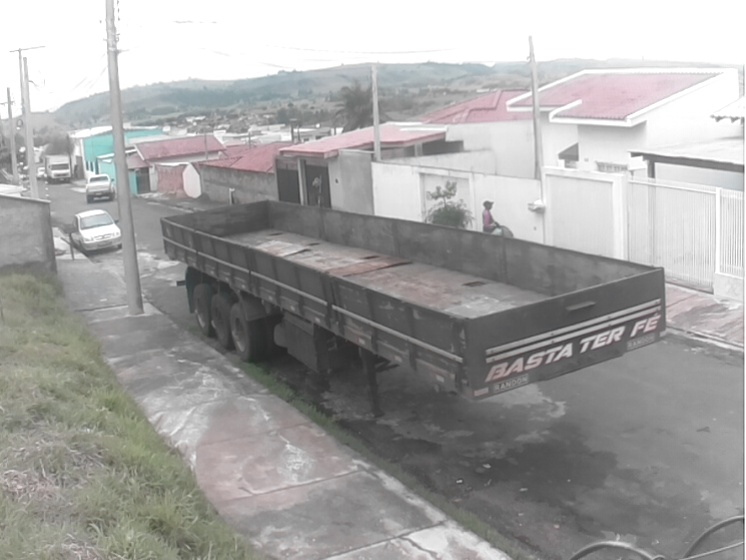person: (477, 198, 510, 238)
